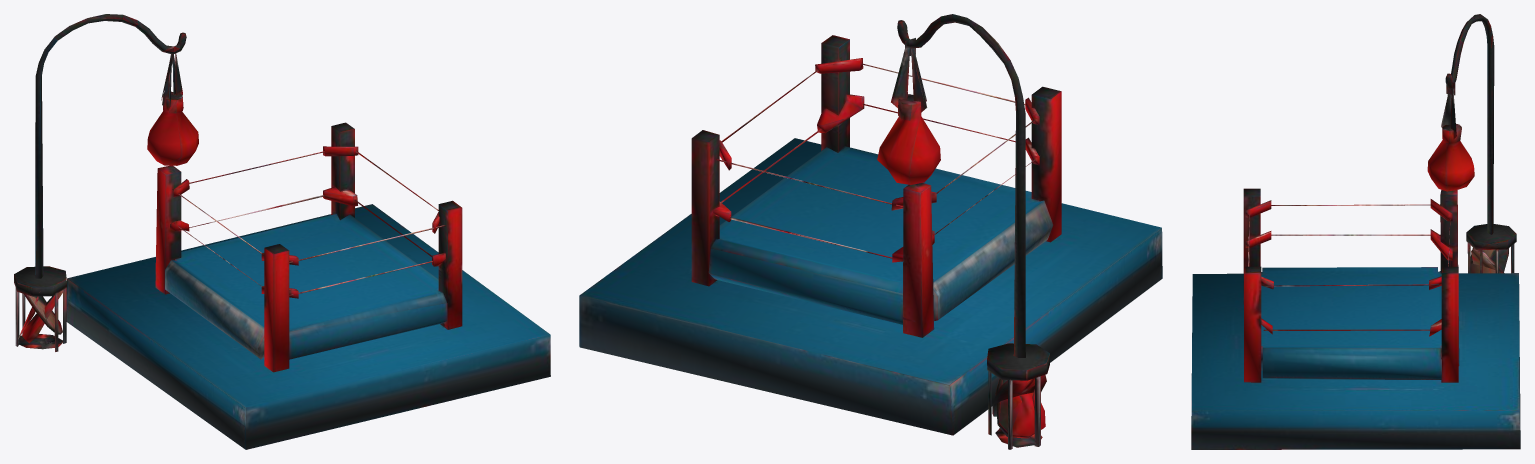
File: boxing_ring.glb
3 views of the same model, side by side, from view 1: azimuth 30°, elevation 25°; view 2: azimuth 150°, elevation 25°; view 3: azimuth 270°, elevation 25° (orthographic). The views are drawn at different scales.
Bounding box in the file's own units: 6 × 5.02 × 5.01.
1 material, 1 textured.
